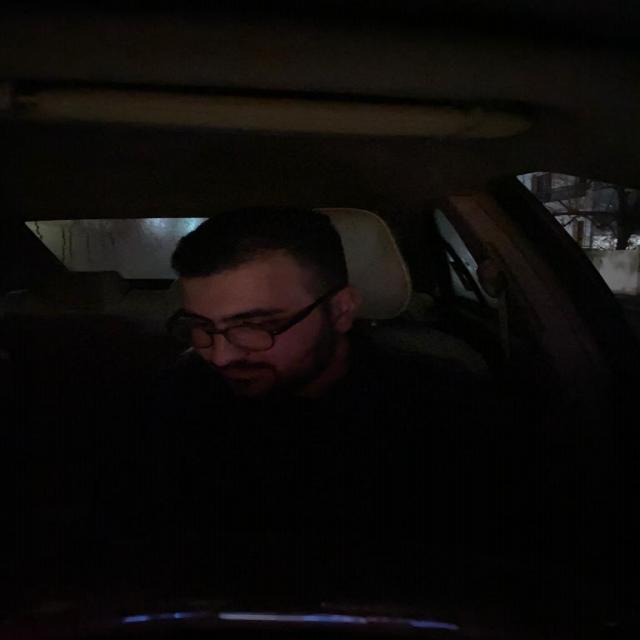drowsy: (174, 219, 356, 392)
